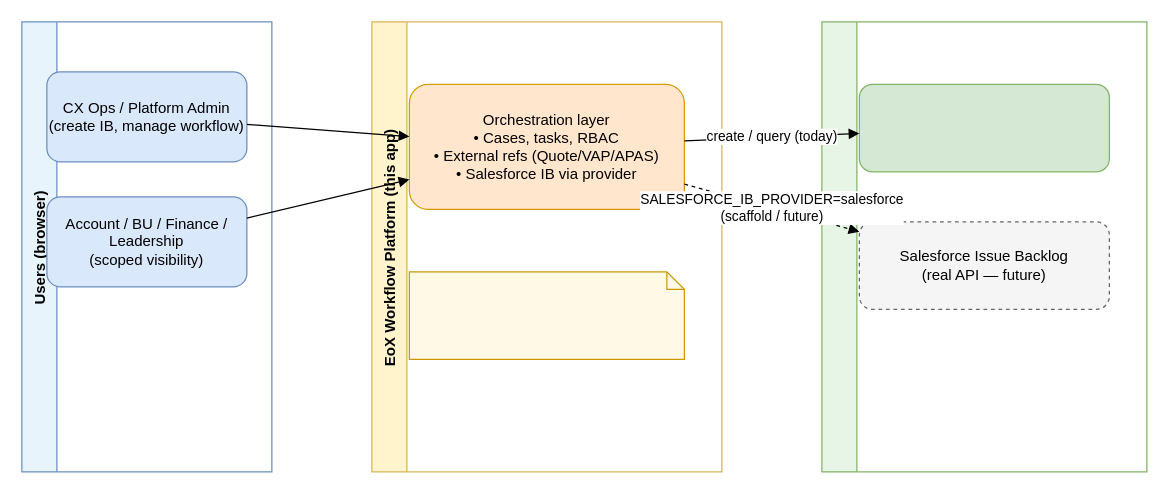
The diagram is 1169 pixels wide and 494 high, and some of its shapes have lost their labels. Here are the shapes that lost their labels. From the top down, the box of each, then its label:
(858, 83, 1109, 172): Salesforce IB provider — MOCK (default, deterministic)
(821, 21, 1147, 472): External / integration
(408, 271, 684, 359): Not execution engines for CCW, VAP, APAS — tracked as references only.
